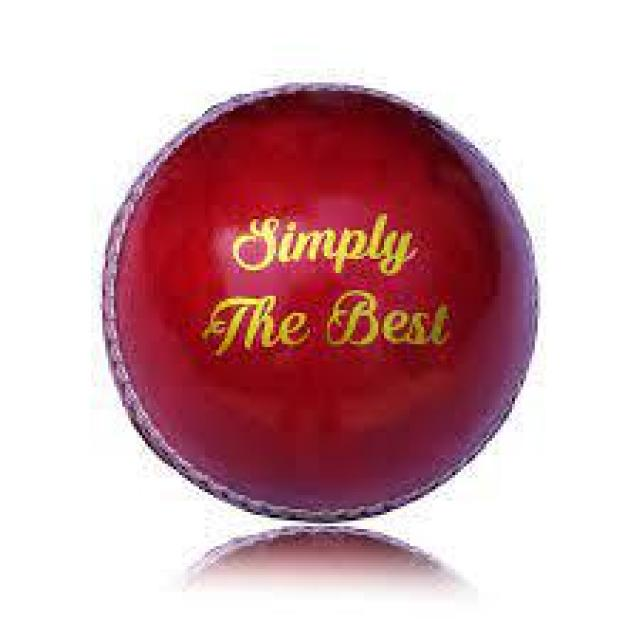ball: (102, 88, 540, 521)
